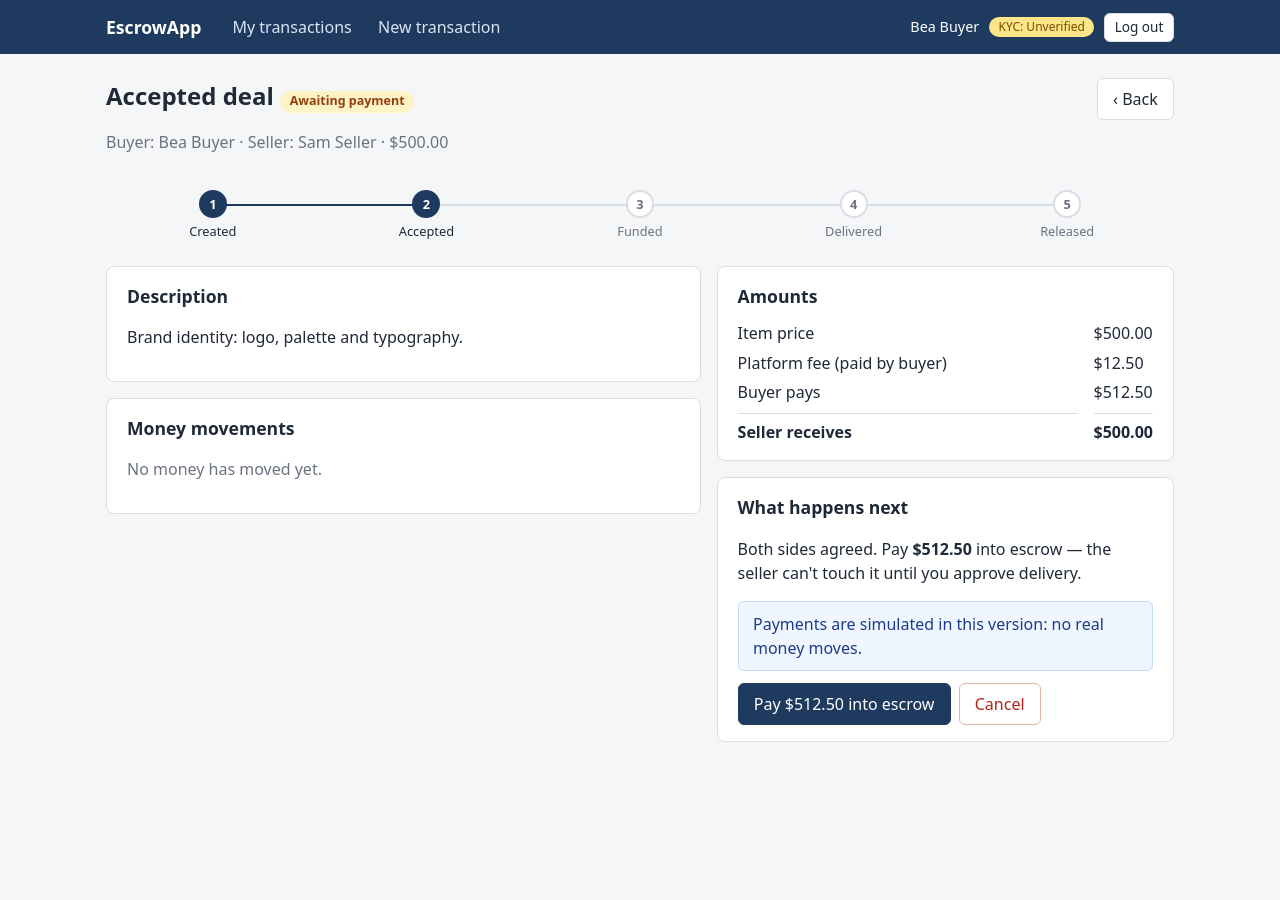
transaction detail: the right buttons for the right person at the right time › shows server errors instead of failing silently
Click the button "Pay $512.50 into escrow": click(844, 704) [738,684,951,726]
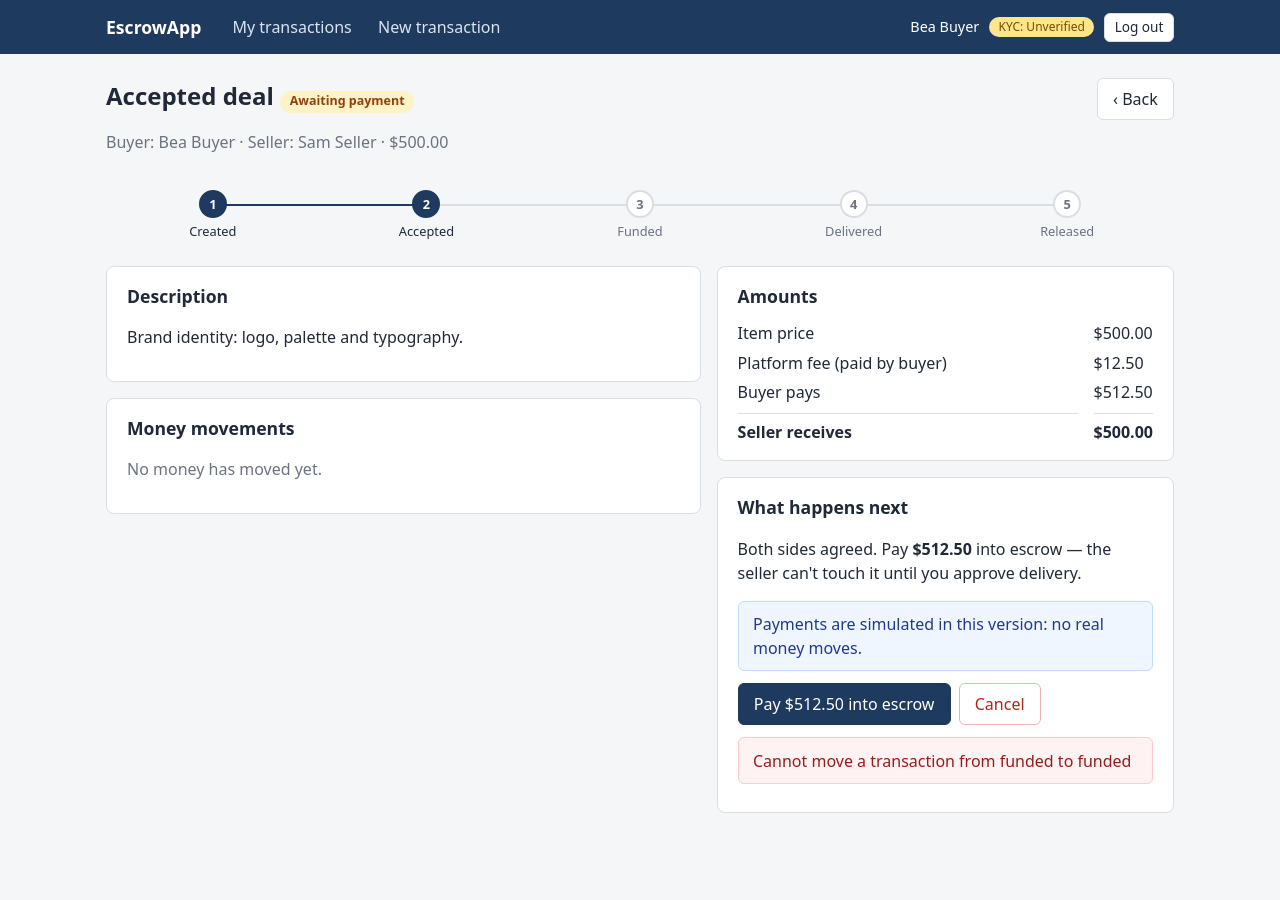
Expected: the message "Cannot move a transaction from funded to funded" is shown, [738,738,1153,784]
